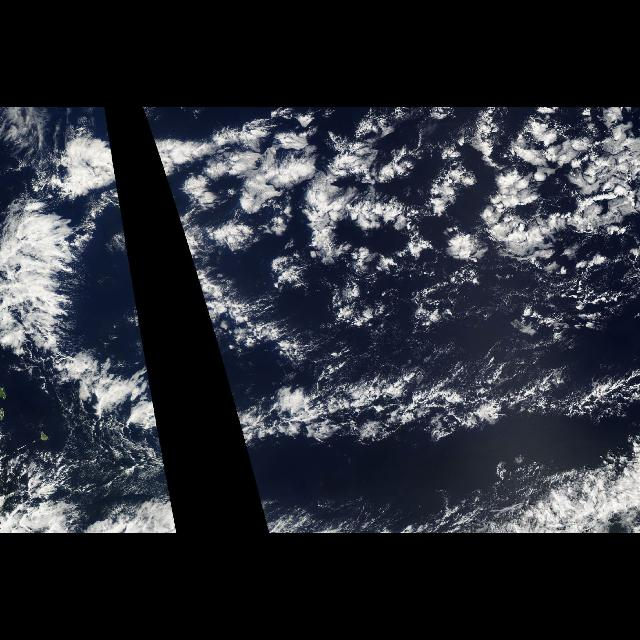Fish: (0, 111, 162, 455), (217, 347, 639, 463), (143, 112, 165, 176)
Flower: (178, 107, 640, 341)
